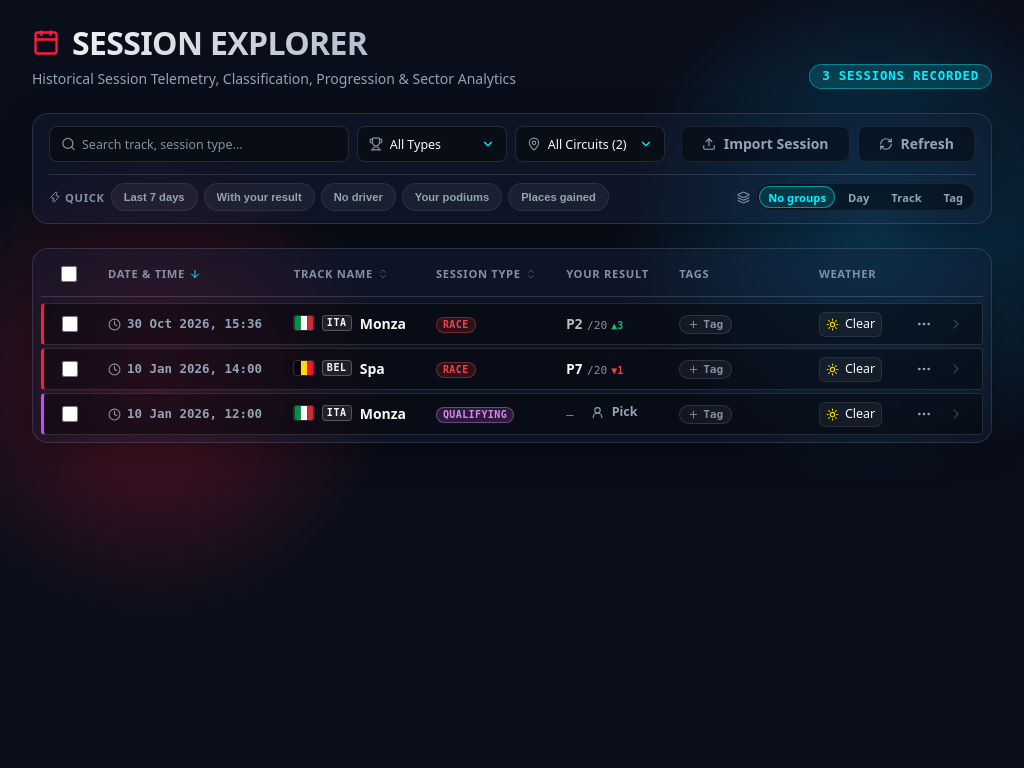
Test case: Session list: quick filters, saved filters, groups and pages › lists the sessions without a driver, and opens with that filter from a link
Expected: the column heading "ITA Monza" next to "30 Oct 2026, 15:36" is shown, [282, 303, 424, 345]
Click the button "No driver": (358, 197) [321, 183, 396, 211]
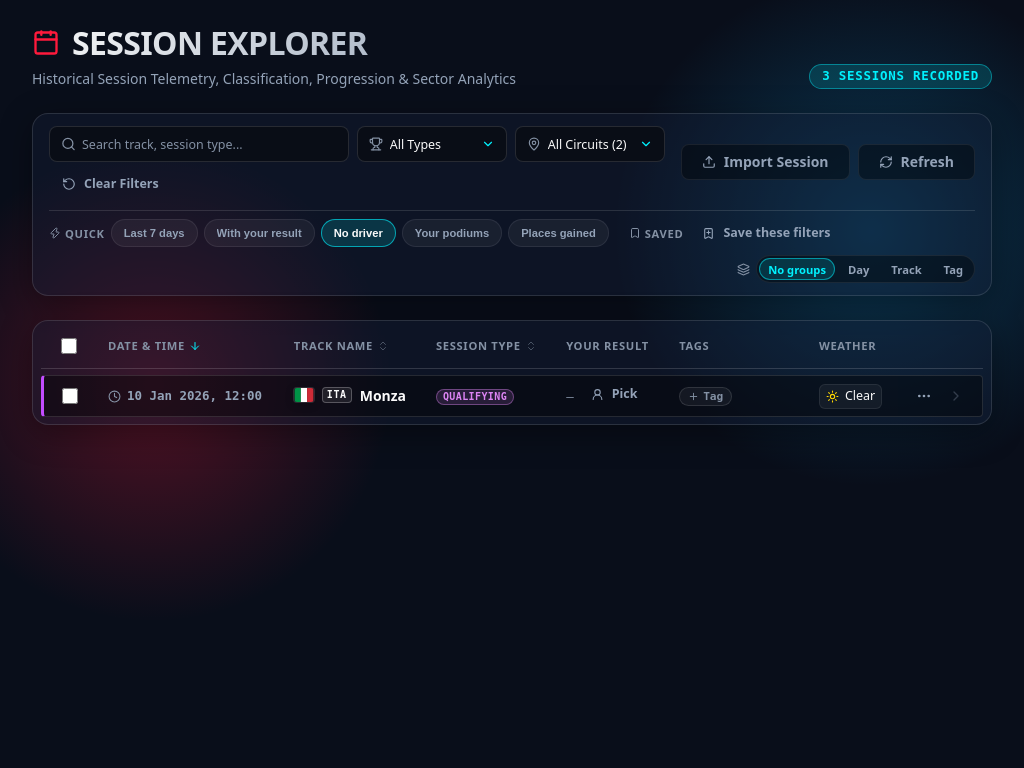
Click the button "No driver": (358, 233) [321, 219, 396, 247]
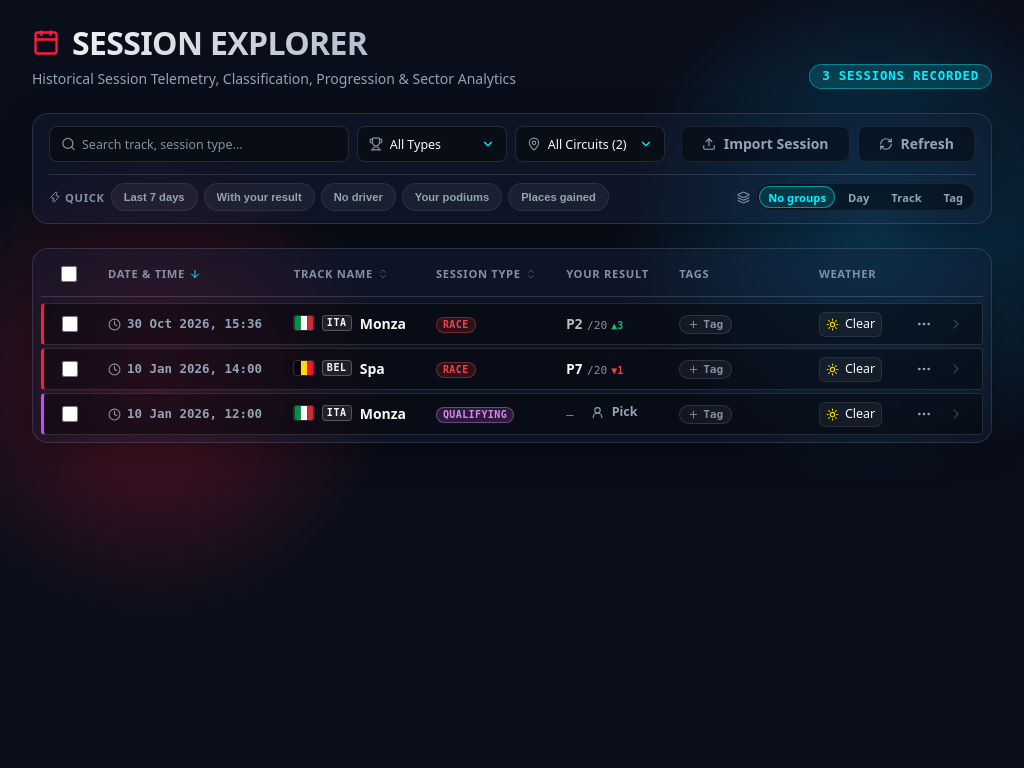
Click the button "Last 7 days": (154, 197) [111, 183, 198, 211]
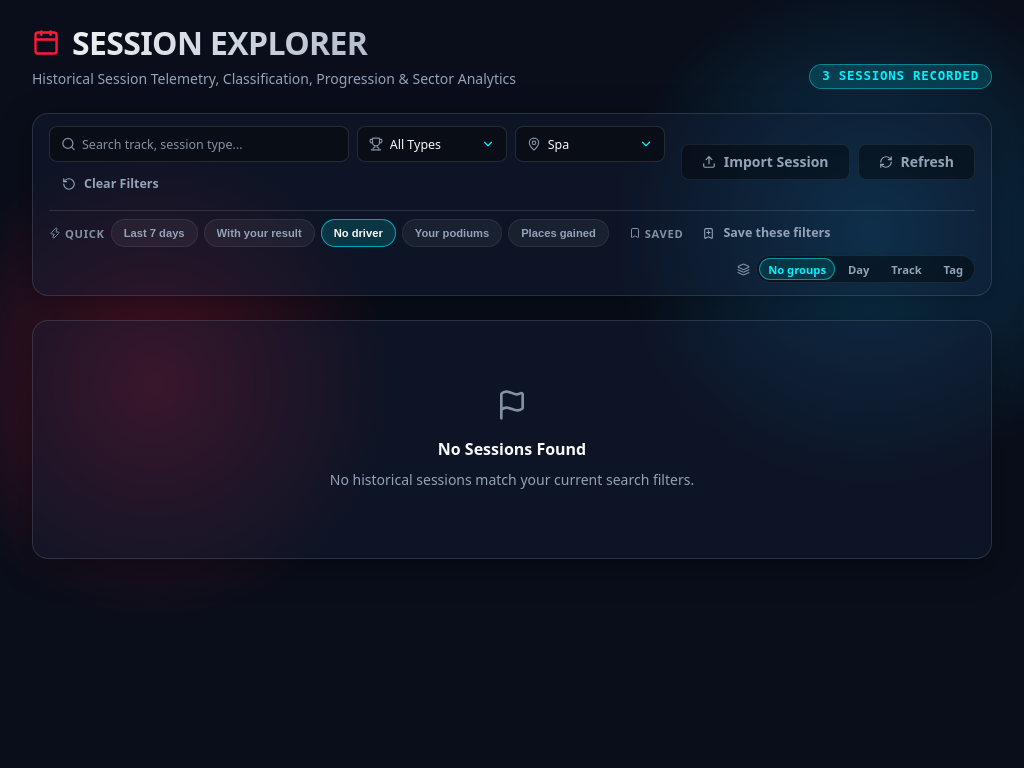
Expected: the dropdown named "circuit" shows "Spa", [515, 126, 665, 162]
